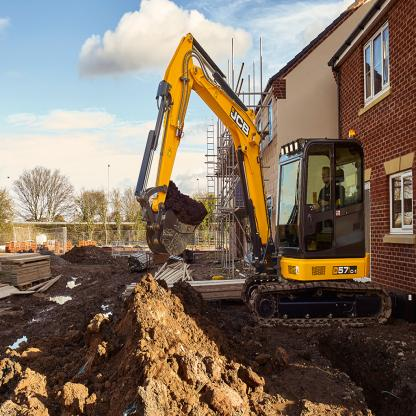excavator: (121, 22, 395, 347)
